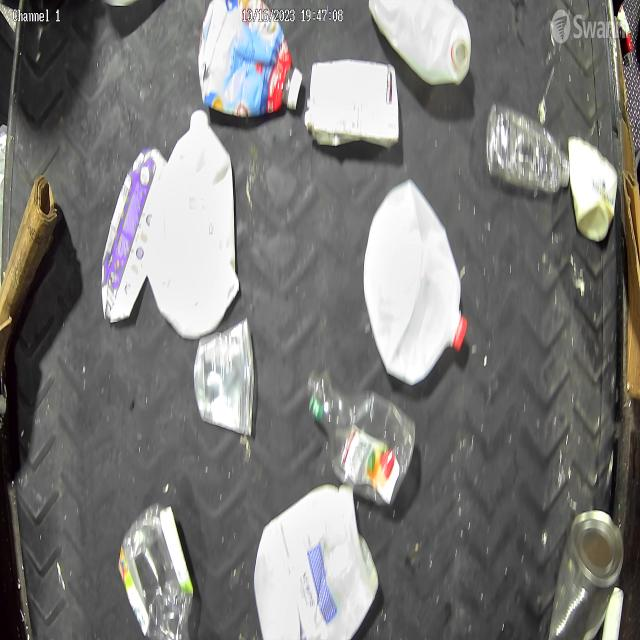can: (548, 507, 624, 640)
milk_jug: (363, 179, 467, 386), (146, 110, 240, 339), (370, 0, 472, 87)
plastic_bottle: (305, 367, 416, 510), (485, 103, 570, 195)
